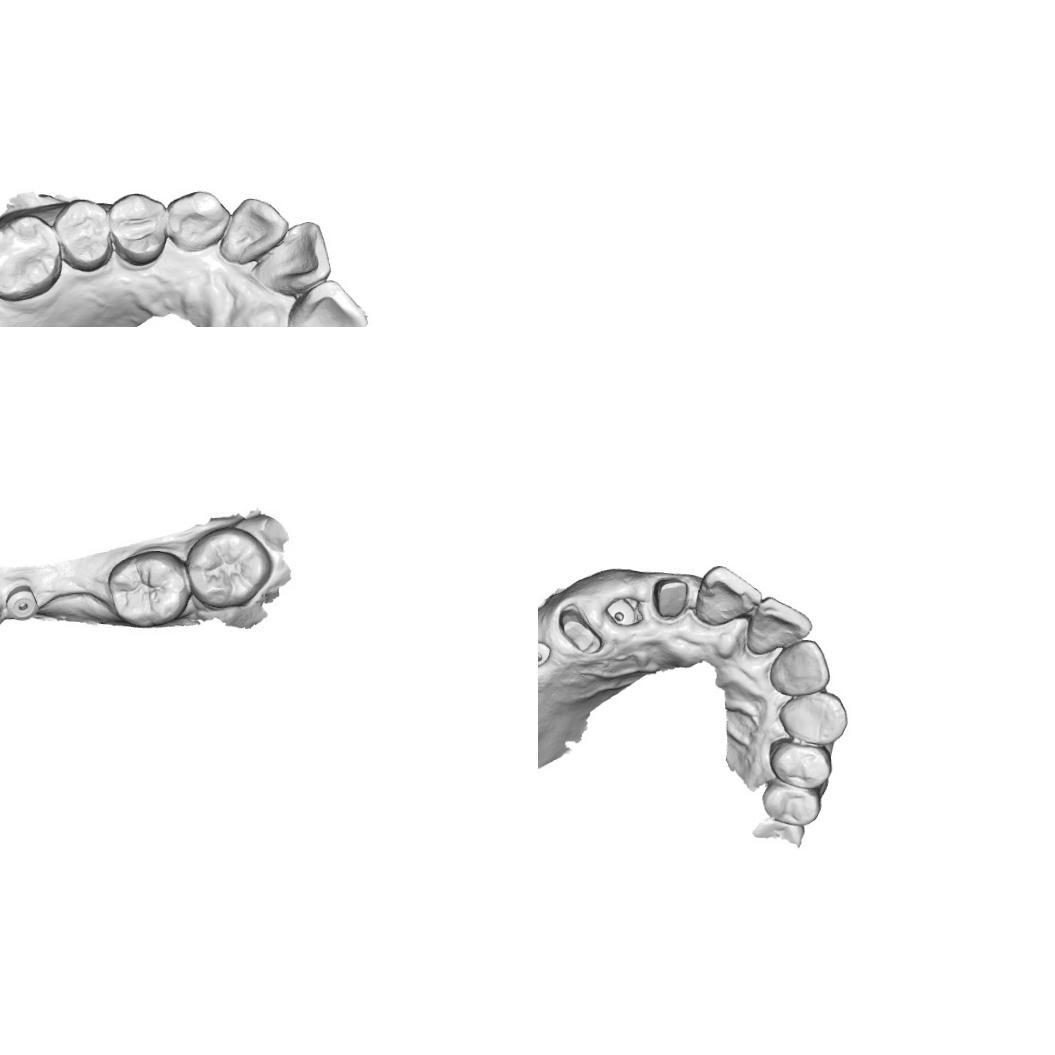canine: (775, 688, 851, 749), (164, 186, 231, 254)
crown: (554, 600, 607, 660), (651, 573, 691, 624)
implant: (3, 586, 43, 618), (606, 595, 636, 630), (538, 634, 552, 669)
incisor: (244, 218, 334, 296), (216, 195, 290, 267), (690, 562, 764, 629), (742, 592, 815, 658), (281, 277, 370, 327), (765, 637, 831, 698)
molar: (179, 524, 278, 613), (106, 549, 188, 628), (0, 212, 61, 304)
premolar: (106, 190, 170, 270), (52, 198, 114, 274), (766, 736, 834, 793), (758, 776, 825, 830)
